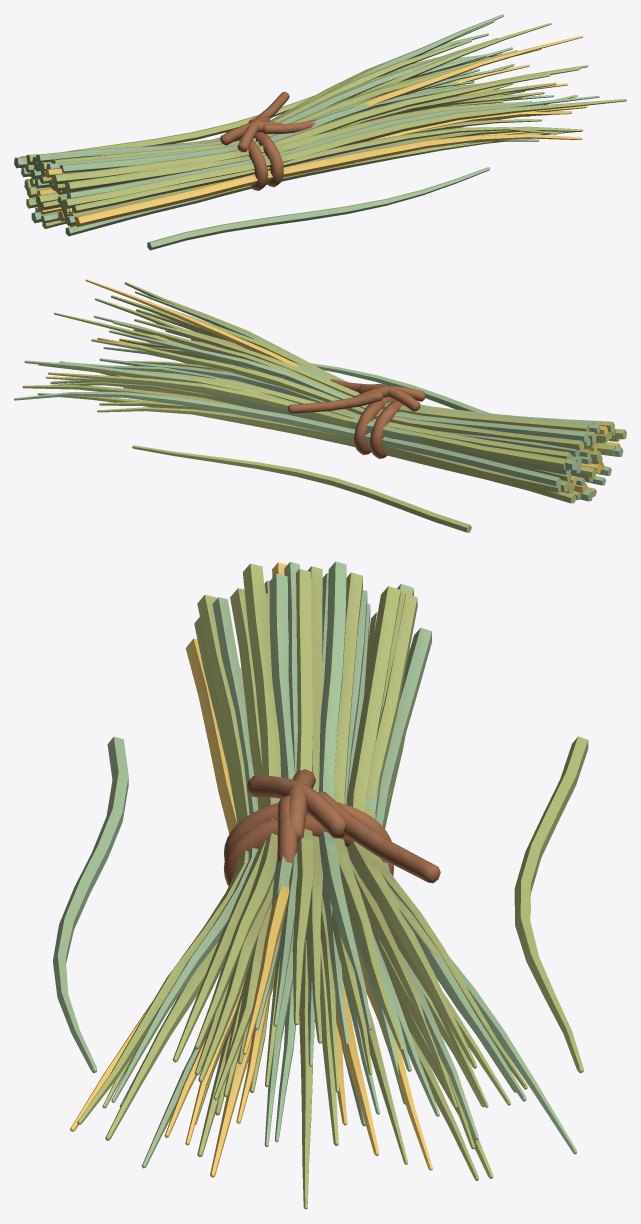
Rendered from plant-fiber-bundle.glb.
3 views of the same model, one above another, from view 1: azimuth 30°, elevation 25°; view 2: azimuth 150°, elevation 25°; view 3: azimuth 270°, elevation 25° (orthographic). The views are drawn at different scales.
Parts seen in each view (by area): view 1: plant-fiber-bundle_body; view 2: plant-fiber-bundle_body; view 3: plant-fiber-bundle_body.
Boxes of the visible parts, box(x1,y1,x2,y2) form: plant-fiber-bundle_body: box(14, 14, 626, 250); plant-fiber-bundle_body: box(14, 279, 626, 532); plant-fiber-bundle_body: box(53, 561, 588, 1209).
Size of the model in its own units: 0.4836 by 0.0666 by 0.2084.
Materials: 1 (1 with a texture image).
